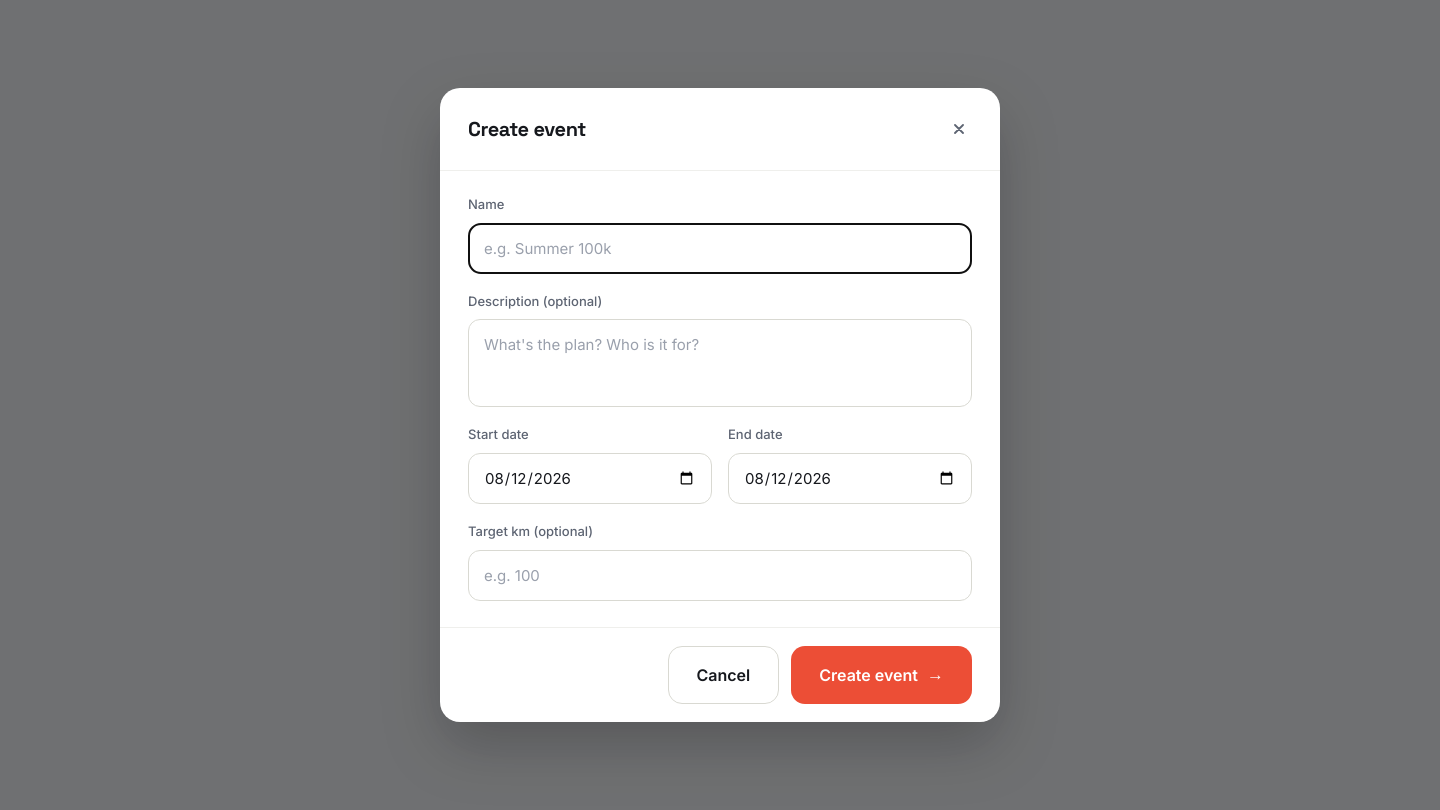
Test case: EventModal (RUN-68 AC3) › stays open with an inline alert and the typed values when the API says no
In the field labelled "Name": (720, 248) [468, 223, 972, 274], type "Summer 100k"
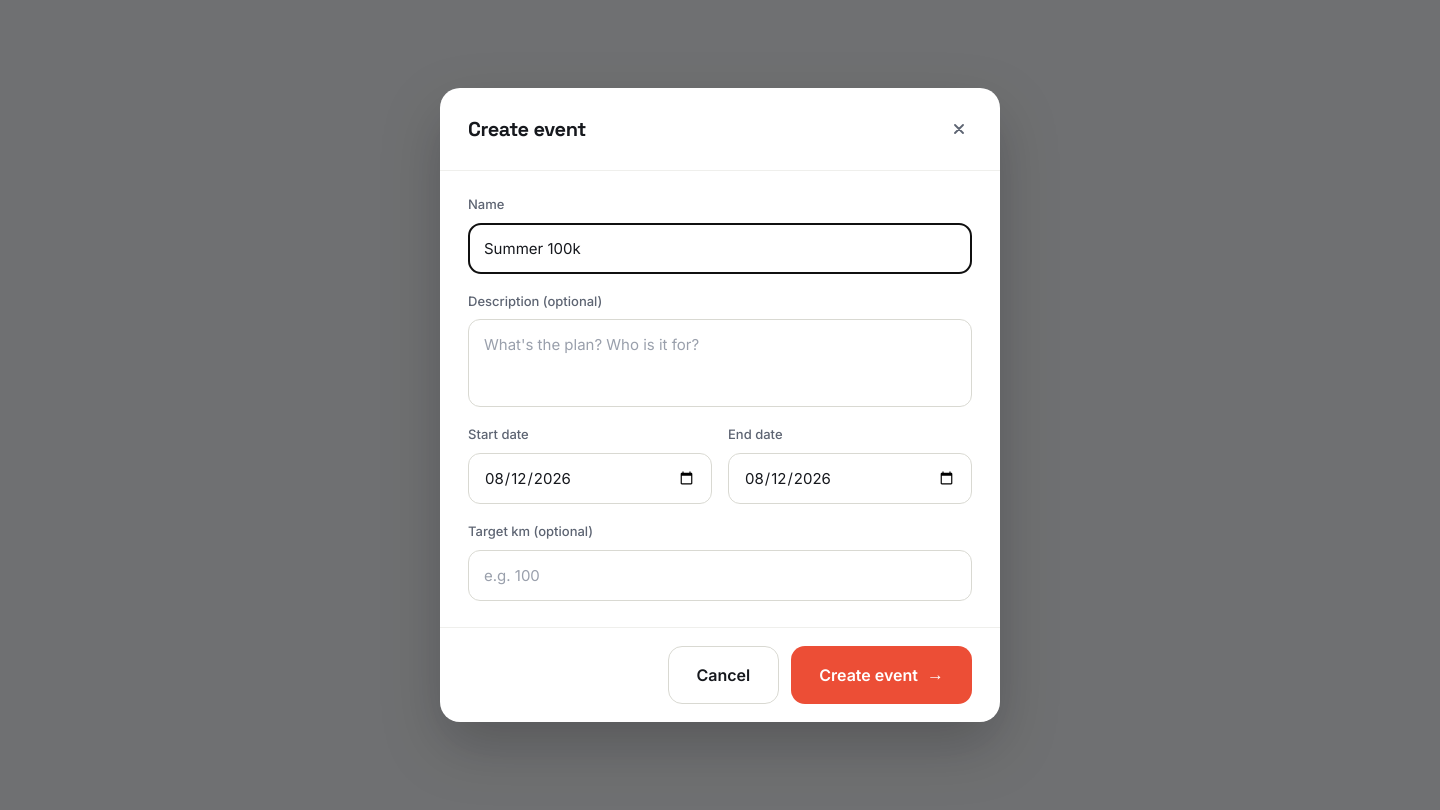
Click the button "Create event →": (882, 675) [791, 646, 972, 704]
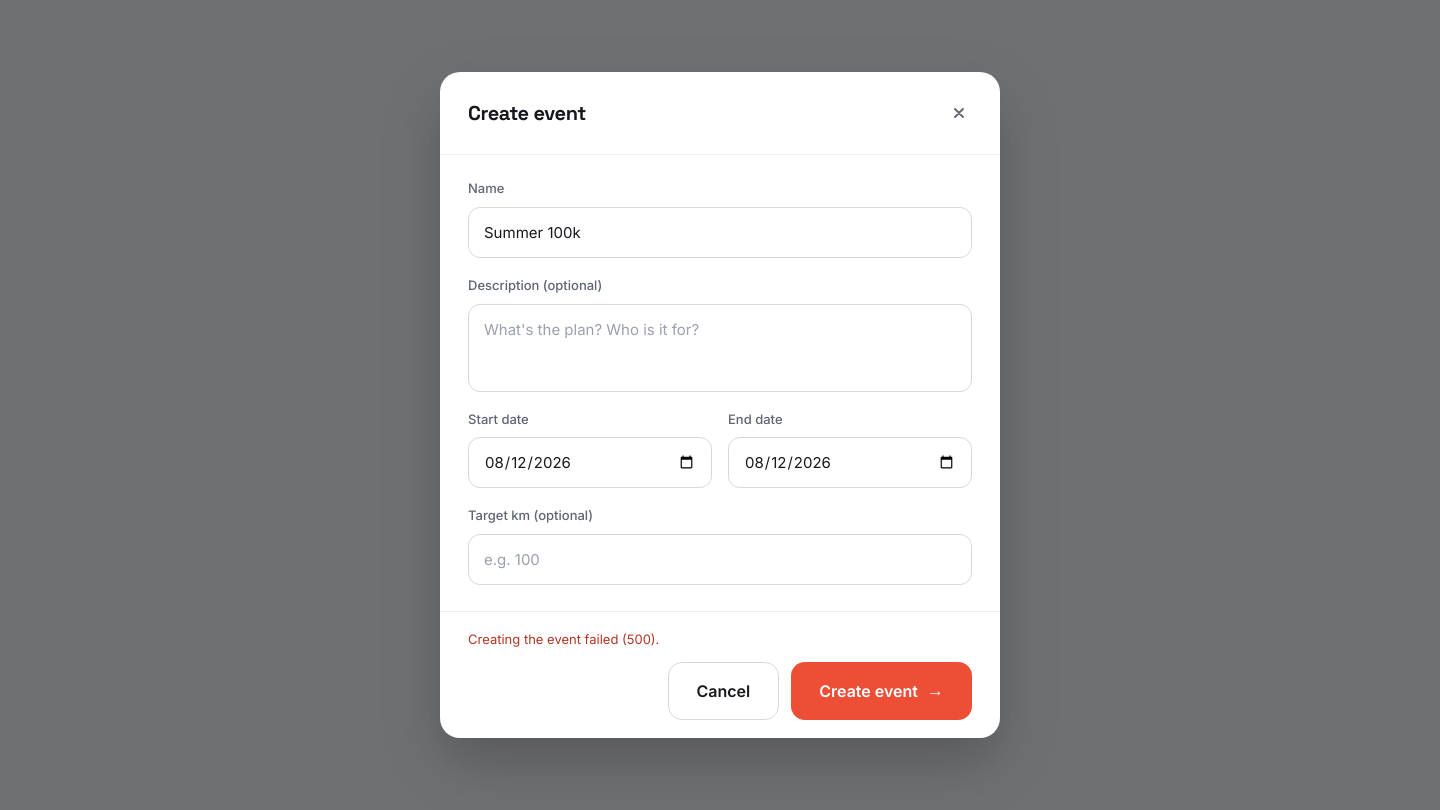
Result: the message shows "500" at [468, 631, 659, 647]
